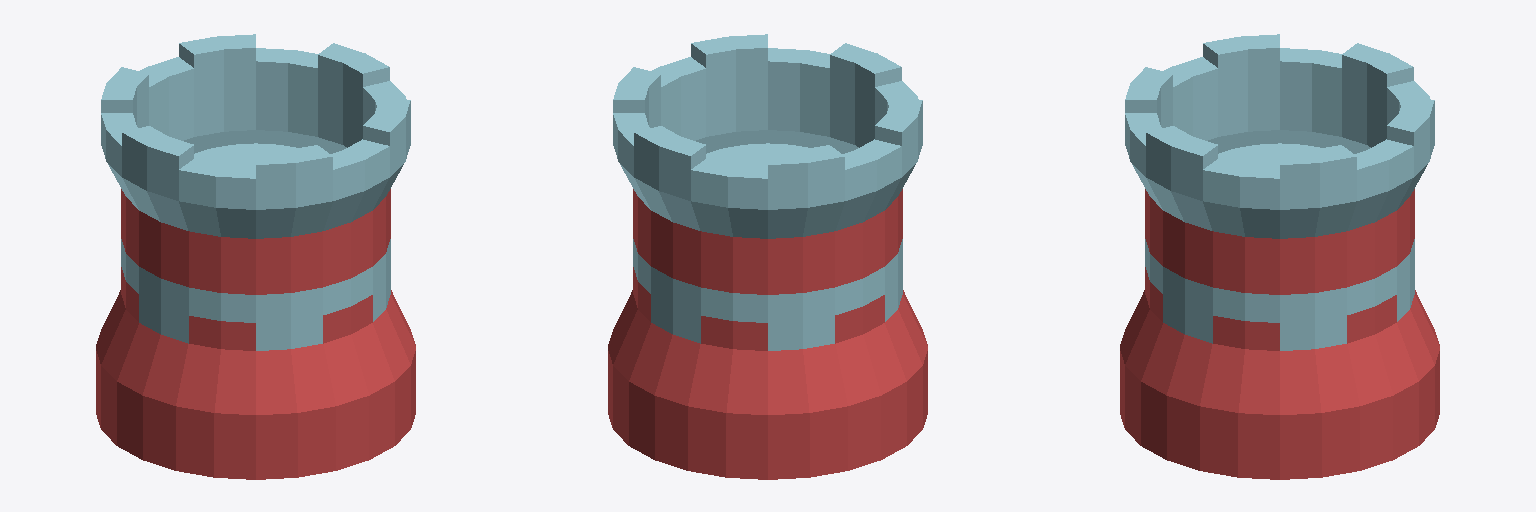
File: FlatTileBase.obj
3 renders of one model, left to right at view 1: azimuth 30°, elevation 25°; view 2: azimuth 150°, elevation 25°; view 3: azimuth 270°, elevation 25°, orthographic.
Visible parts, largest first — view 1: towerRound_sampleC; view 2: towerRound_sampleC; view 3: towerRound_sampleC.
Boxes of the visible parts, x1=… form: towerRound_sampleC: x1=96, y1=34, x2=415, y2=479; towerRound_sampleC: x1=608, y1=34, x2=927, y2=479; towerRound_sampleC: x1=1120, y1=34, x2=1439, y2=479.
Bounding box in the file's own units: 0.6594 × 0.7083 × 0.6594.